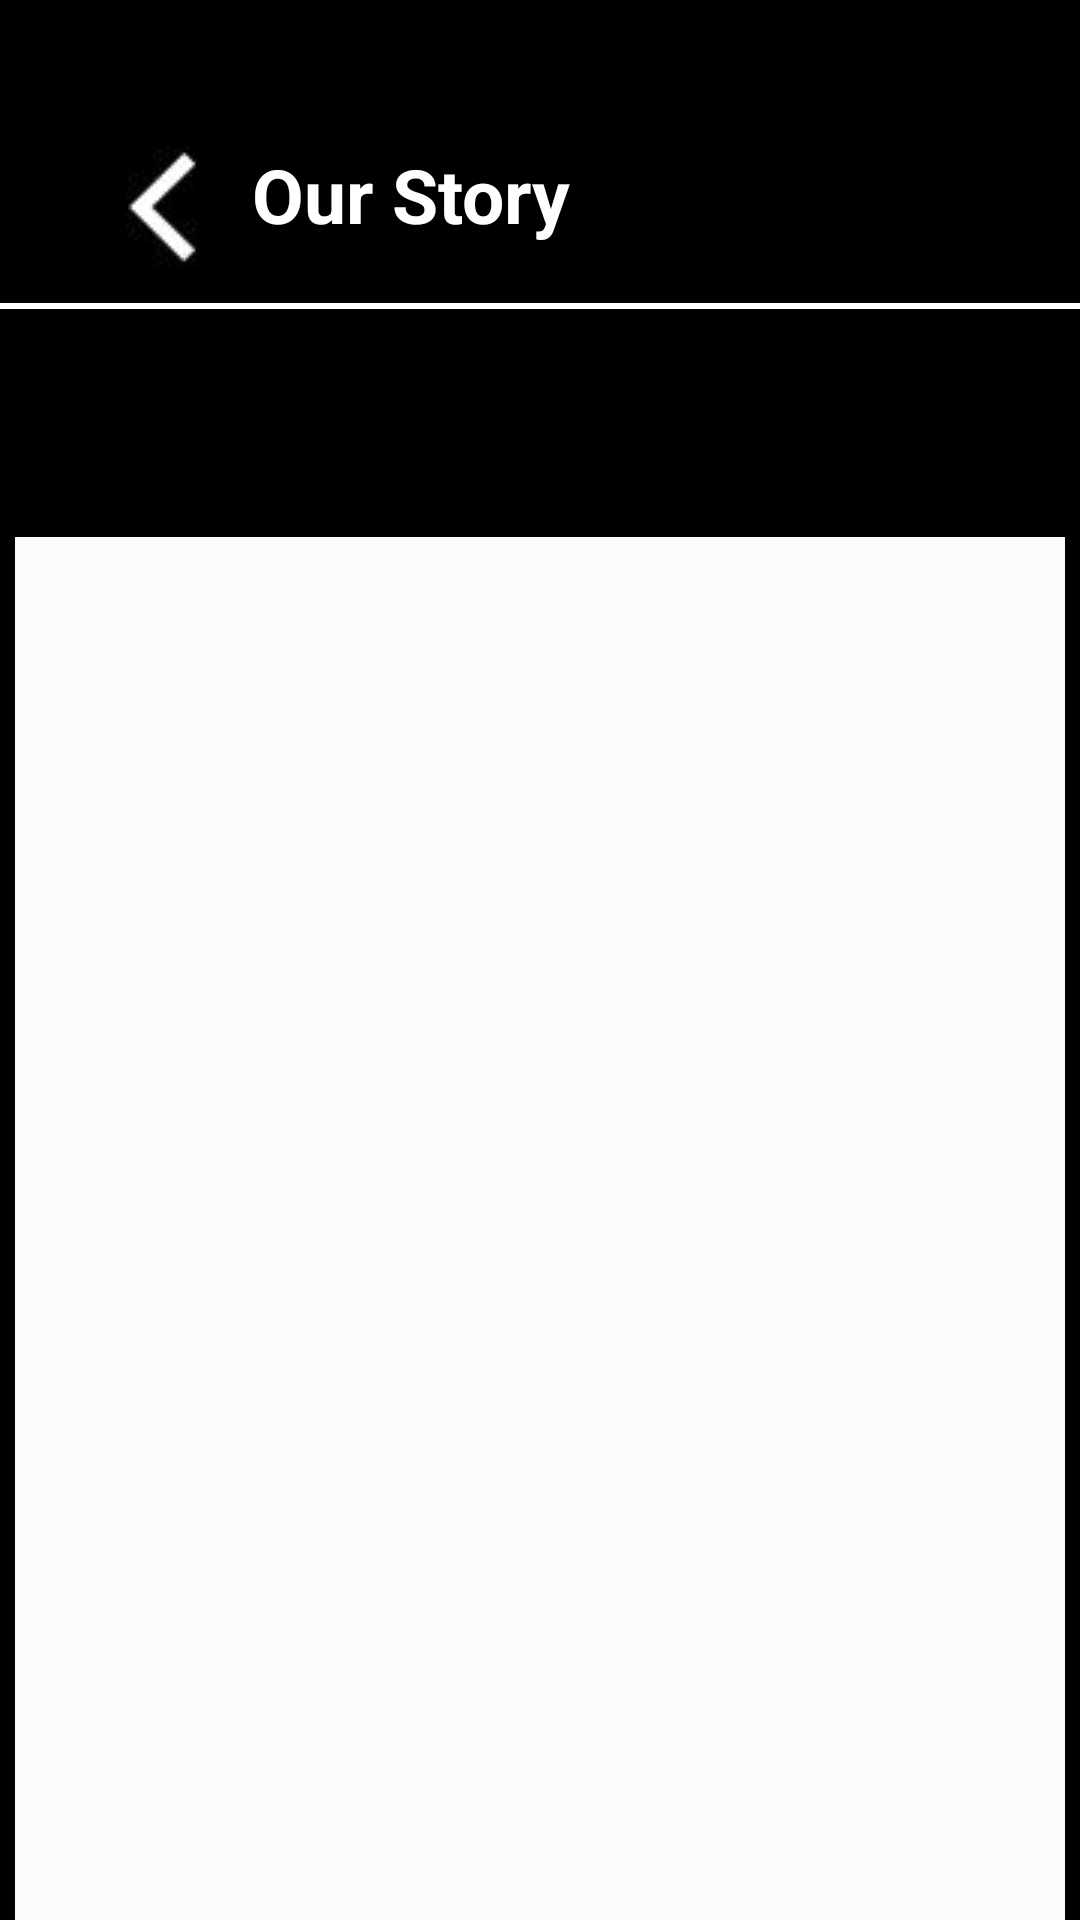

Where icons sit on this 1080px×1920px app screen, as [left=x1, top=y1, right=x2, bottom=y2]:
arrow: [left=128, top=152, right=196, bottom=262]
